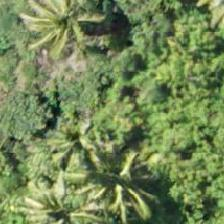coconut_tree: (29, 0, 119, 57)
